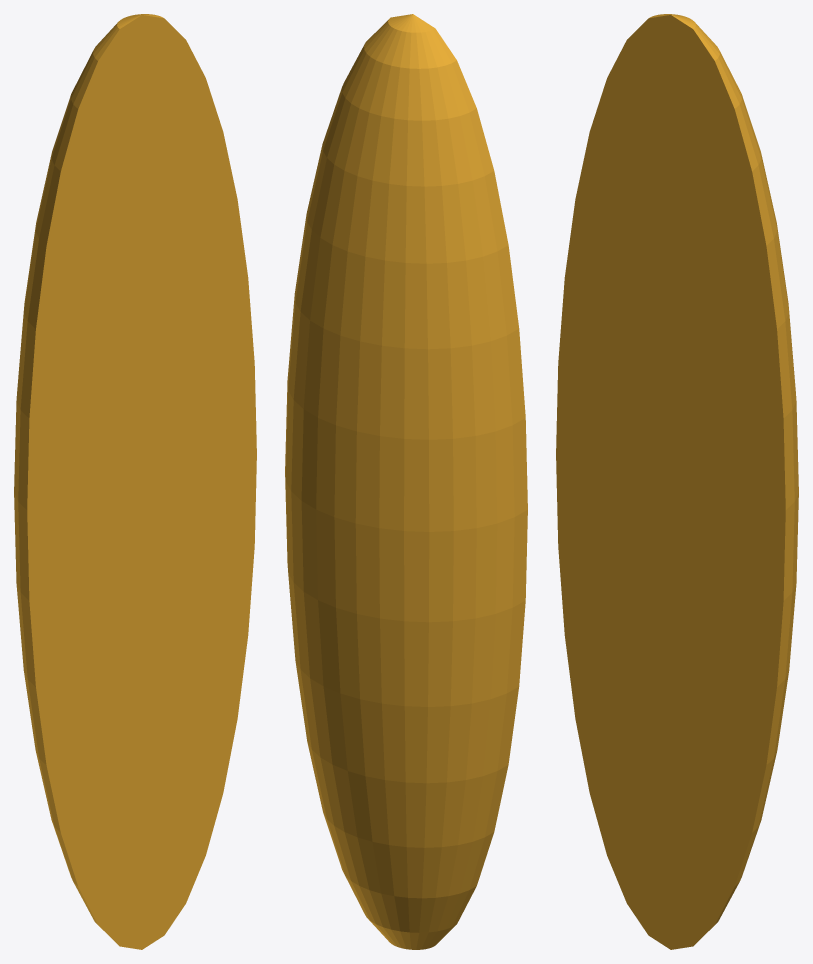
Rendered from forearm.dae.
3 views of the same model, side by side, from view 1: azimuth 30°, elevation 25°; view 2: azimuth 150°, elevation 25°; view 3: azimuth 330°, elevation 25° (orthographic).
Visible parts, largest first — view 1: Sphere.001; view 2: Sphere.001; view 3: Sphere.001.
Part boxes in pixels (bbox=[...]): Sphere.001: bbox=[14, 14, 256, 949]; Sphere.001: bbox=[285, 14, 527, 949]; Sphere.001: bbox=[556, 14, 798, 949].
Bounding box in the file's own units: 0.2571 × 0.1111 × 1.
